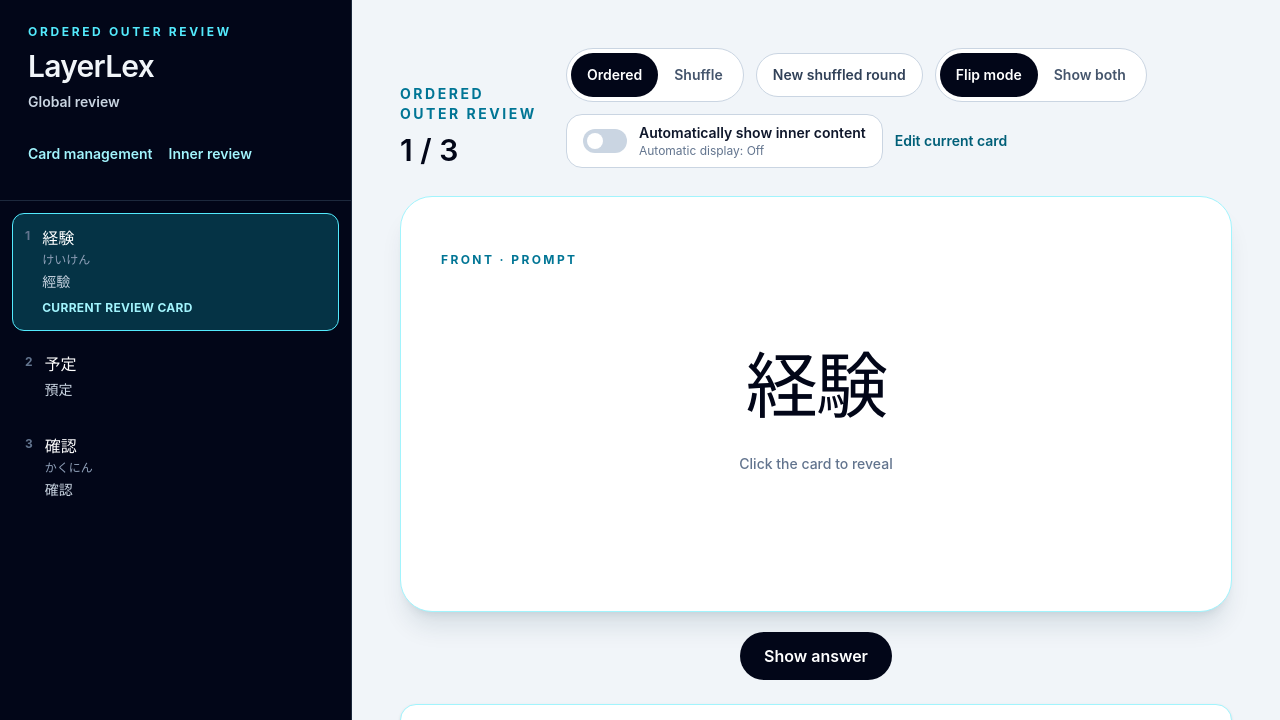
Test: outer review deck states and routing › uses directory links as URL-backed selection
Click the link "3 確認 かくにん 確認".
click(59, 467)  # box [25,436,93,498]
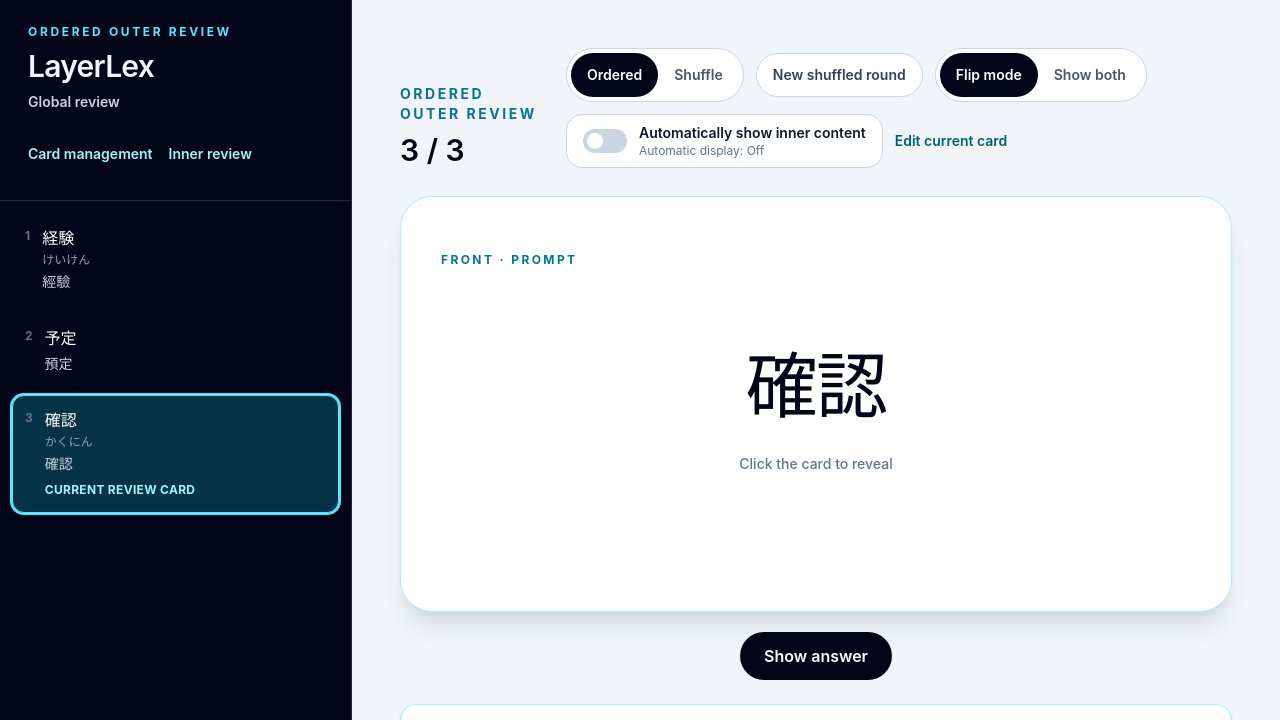
Expected: the text named "Review progress" reads "3 / 3", [400,132,465,168]
